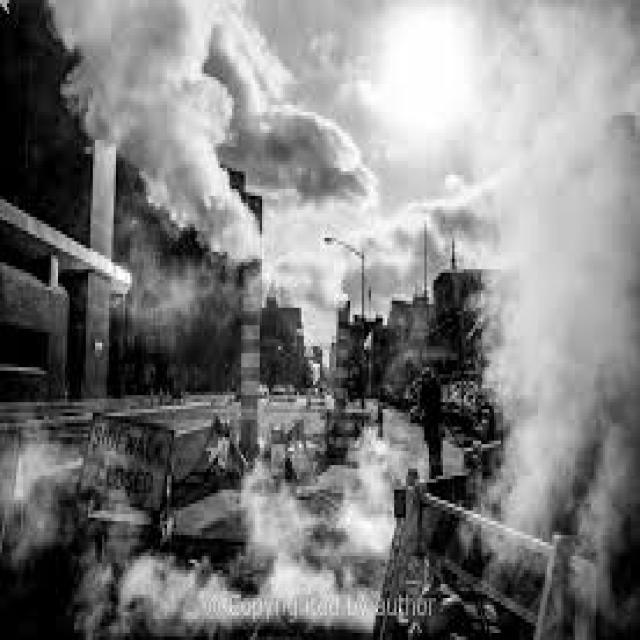smoke: (14, 0, 538, 332), (88, 475, 429, 640)
